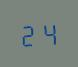four: (39, 20, 58, 45)
two: (19, 21, 38, 47)
